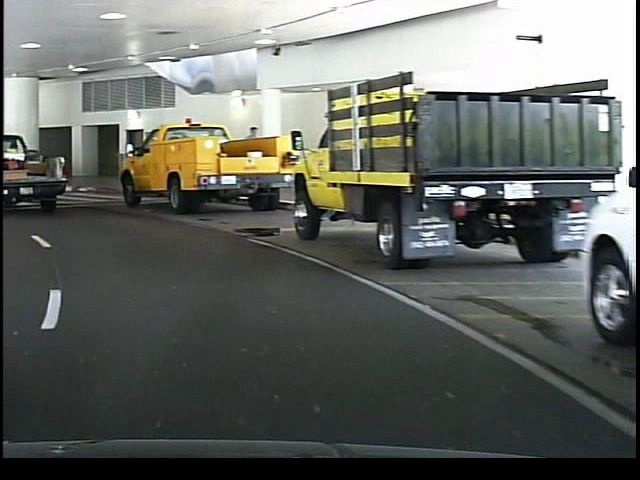person: (239, 123, 262, 198)
